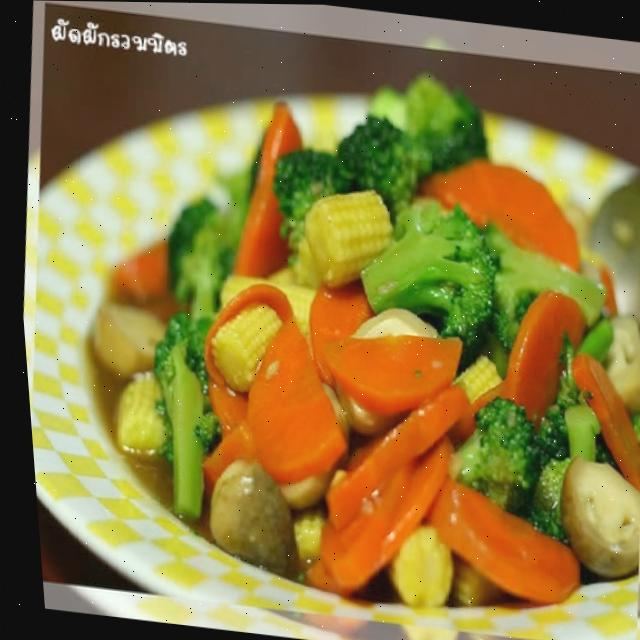蔬菜料理: (74, 75, 640, 617)
